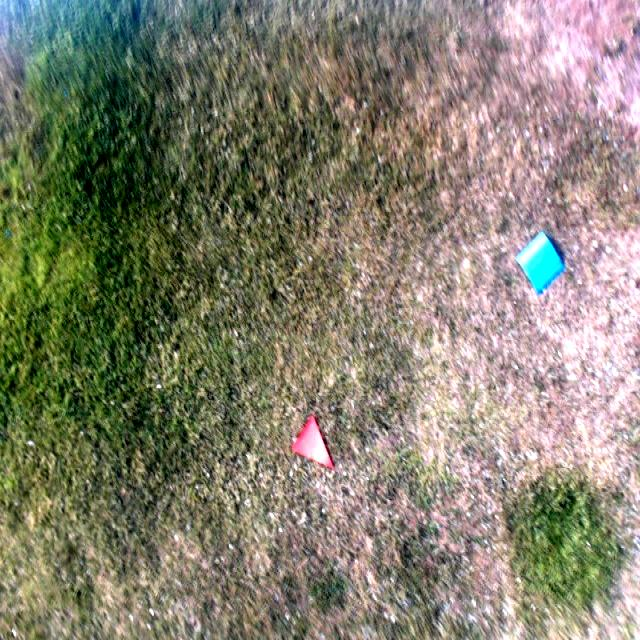blue_square: (515, 228, 564, 292)
red_triangle: (290, 413, 336, 472)
